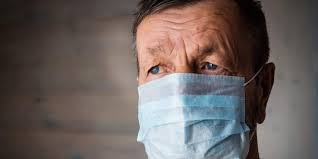with_mask: (125, 1, 281, 159)
